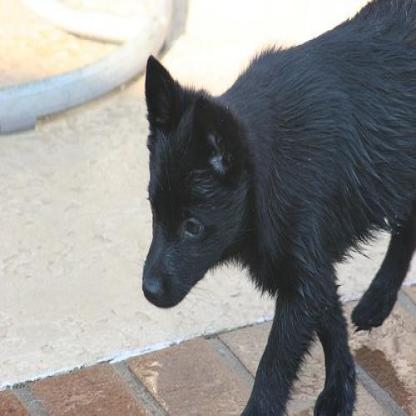schipperke: (140, 0, 414, 414)
